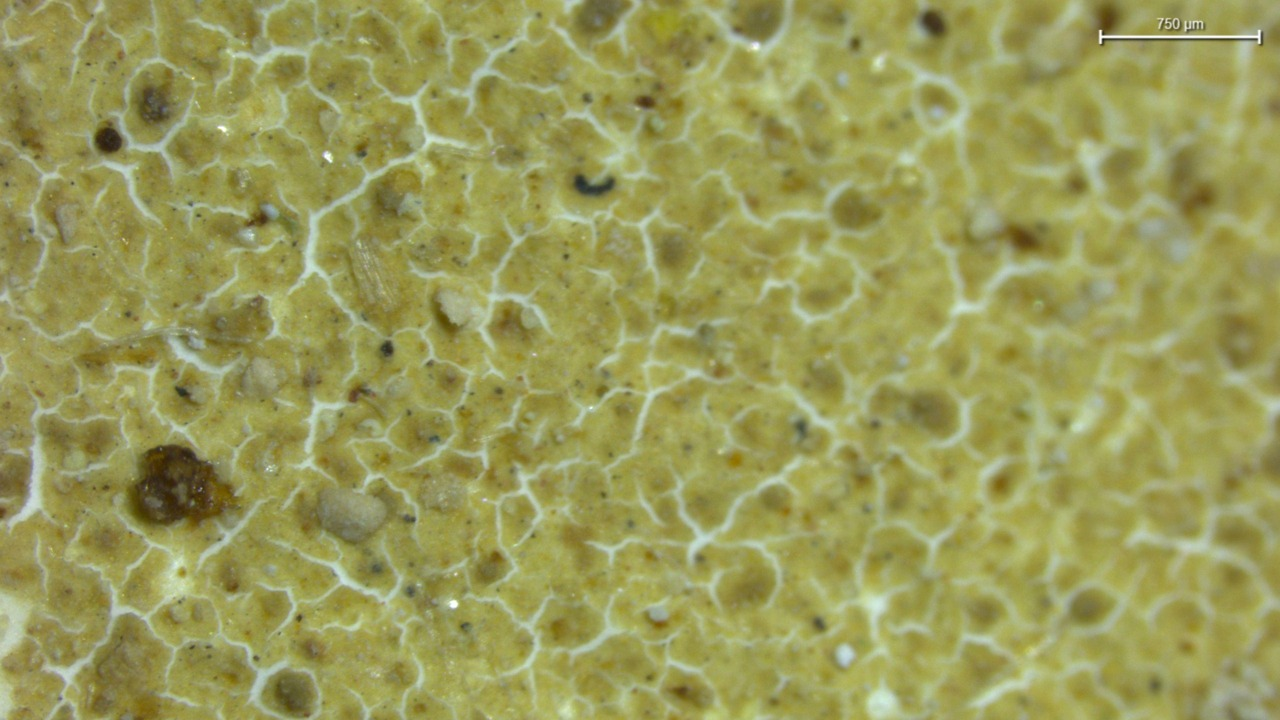microplastic_fragment: (315, 488, 387, 543), (434, 288, 478, 327)
